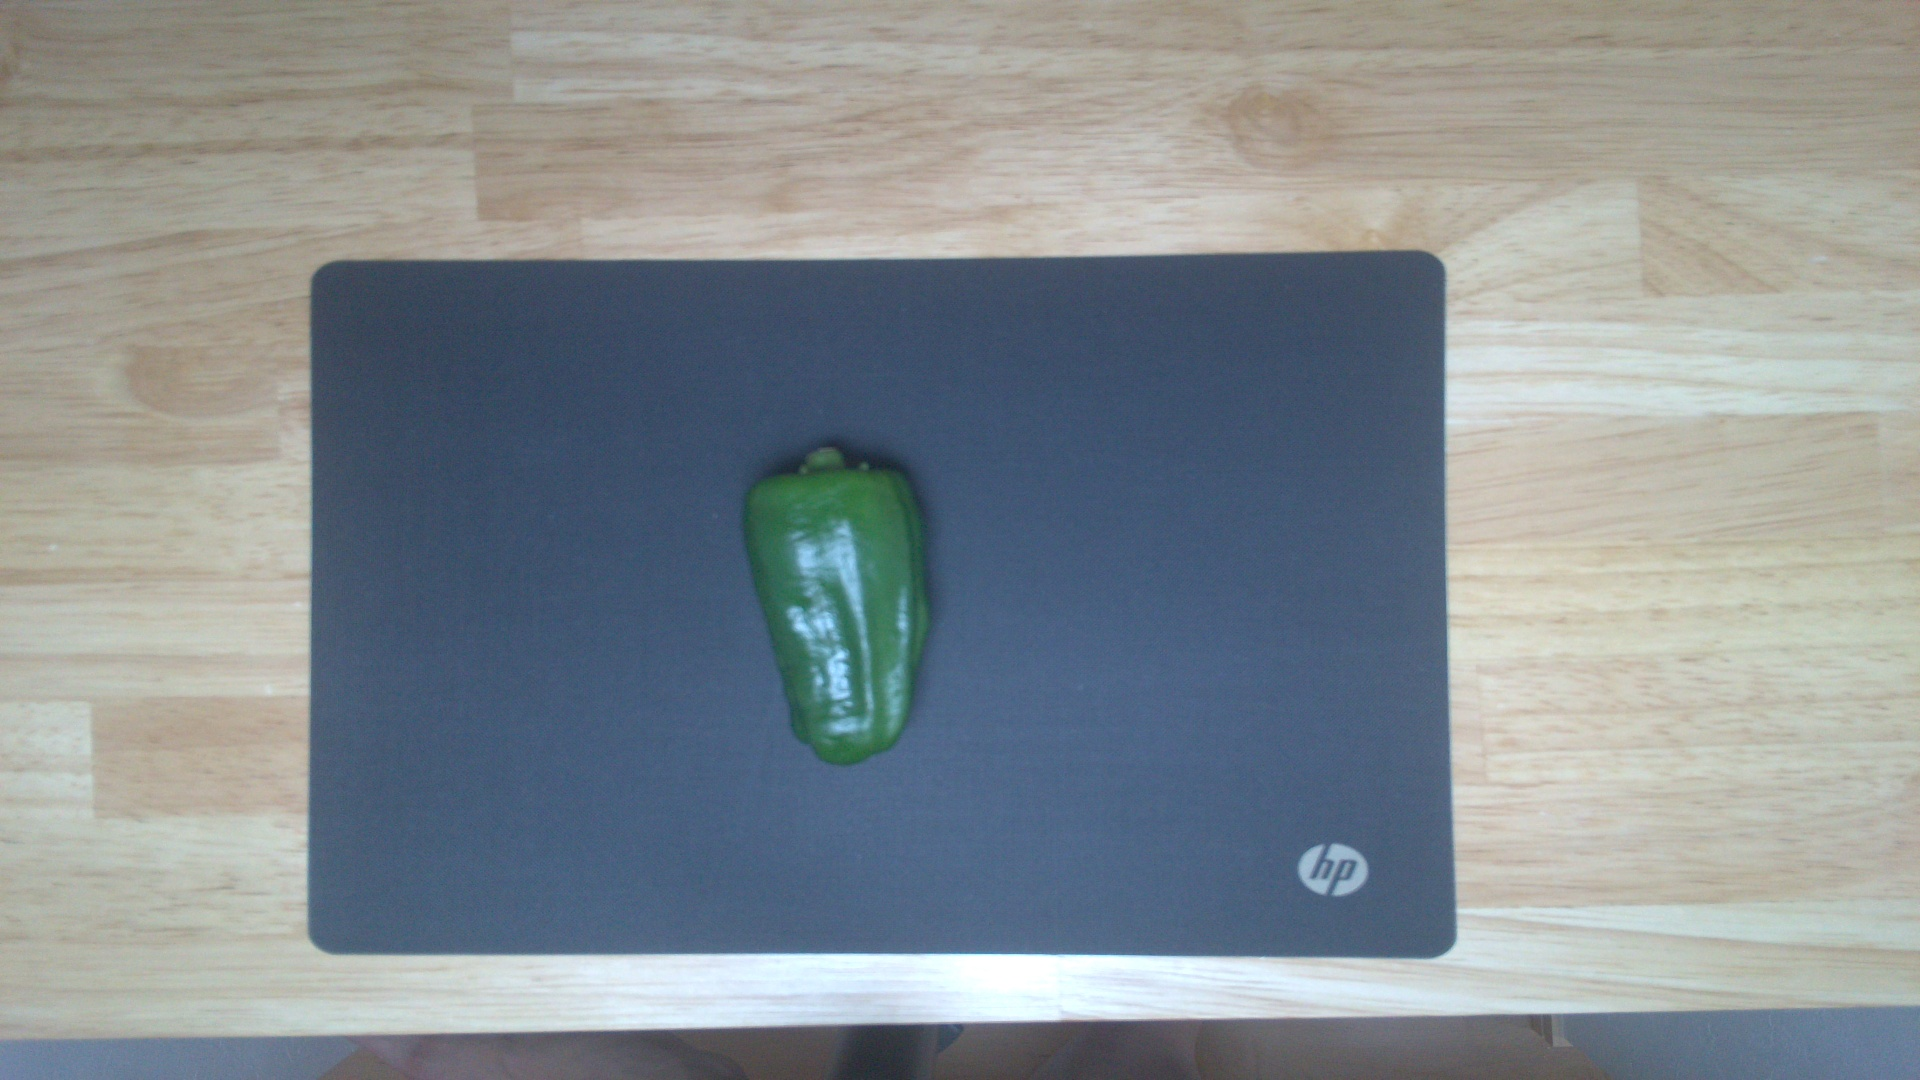Piman: (738, 440, 939, 765)
